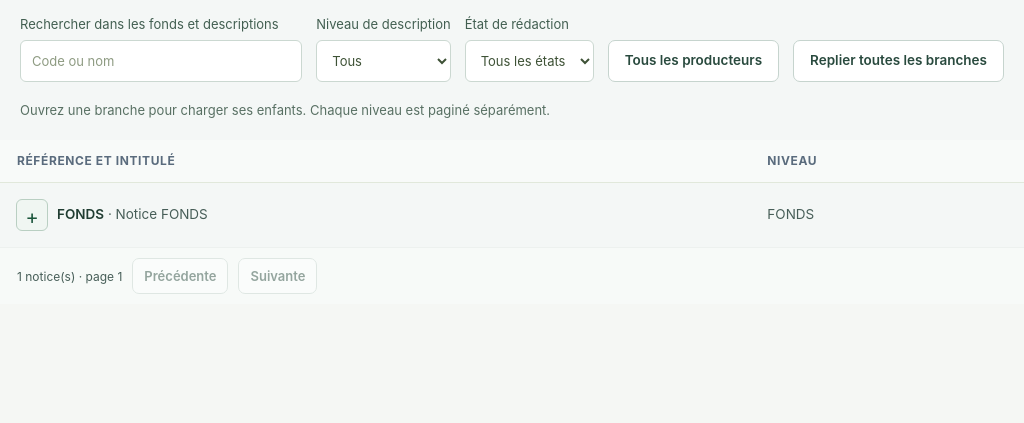
Scenario: charge une branche sur demande, pagine ses enfants en conservant le parent et les replie
Expected: the text "Notice FONDS" is shown, [116,206,208,222]
What coordinates should you click on to do the following:
click the button named "Déplier FONDS"
I would click on:
 (32, 215)
Its box is [16,199,48,231].
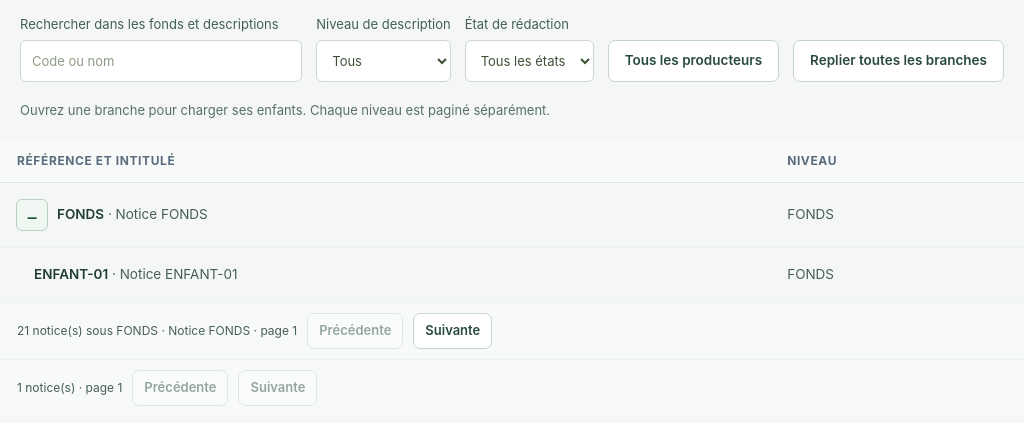
Now the text "Notice ENFANT-01" is shown, box [120,266,238,282]
What coordinates should you click on to do the following:
click the button with aria-label "Page suivante pour les enfants de FONDS · Notice FONDS"
I would click on:
 (453, 331)
Its box is [413,313,492,349].
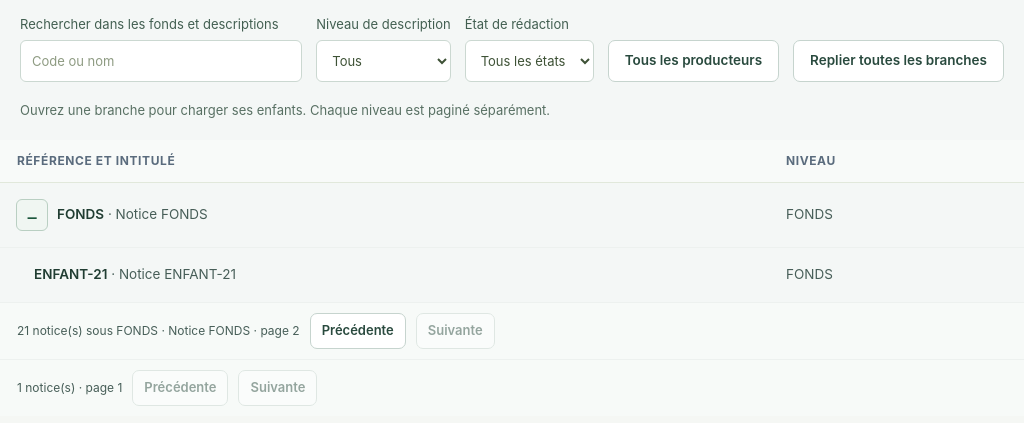
Expected: the text "Notice FONDS" is shown, [116,206,208,222]
Now the text "Notice ENFANT-21" is shown, box [119,266,236,282]
Now the text "Notice ENFANT-01" is gone
What coordinates should you click on to do the following:
click the button "Replier toutes les branches"
I would click on:
 (899, 61)
Its box is [793,40,1004,82].
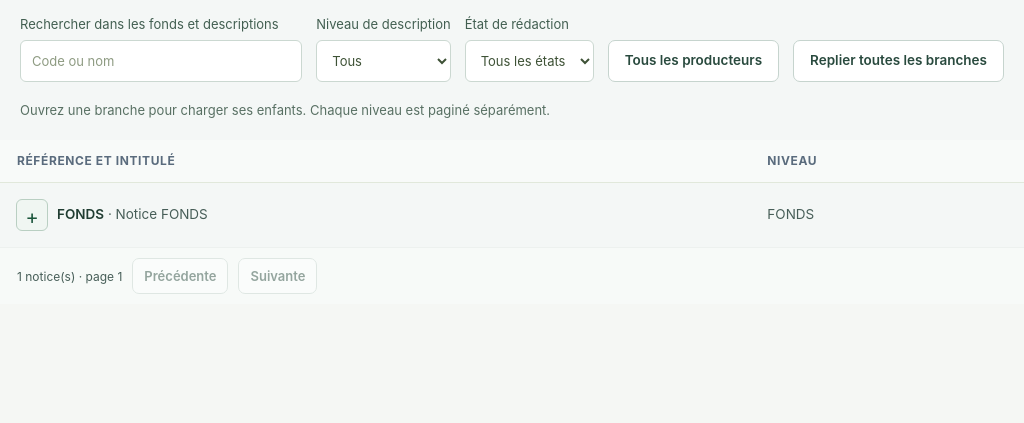
Now the button named "Déplier FONDS" is shown, box [16,199,48,231]
Now the text "Notice ENFANT-21" is gone
